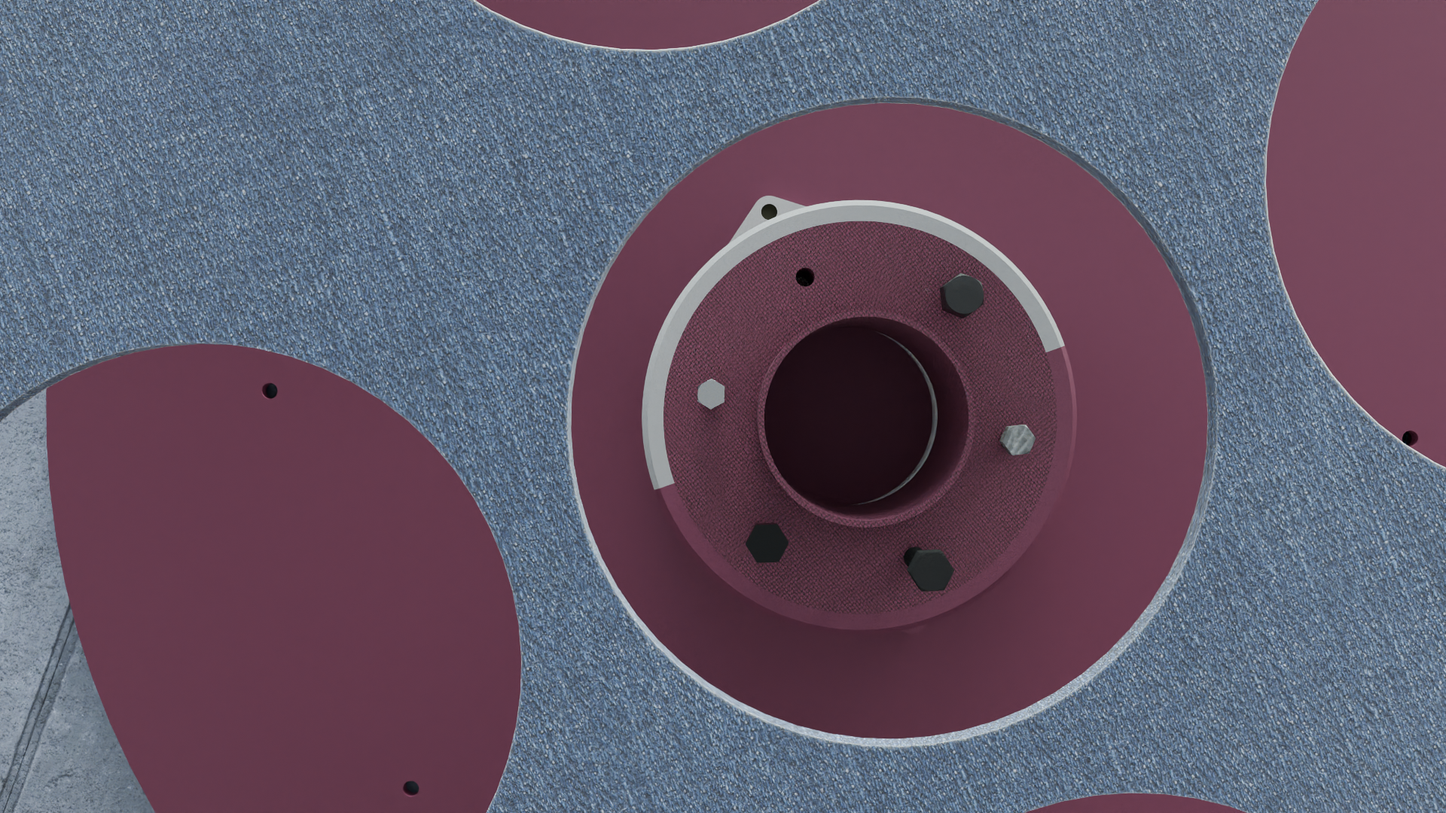bolt: (943, 273, 984, 317), (910, 552, 954, 592), (746, 524, 789, 563), (1002, 425, 1036, 455), (697, 379, 725, 410)
